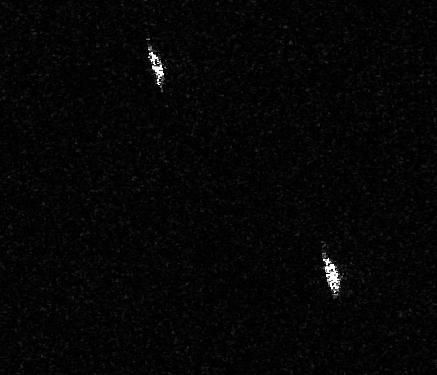ship: (320, 257, 344, 295), (145, 49, 165, 85)
